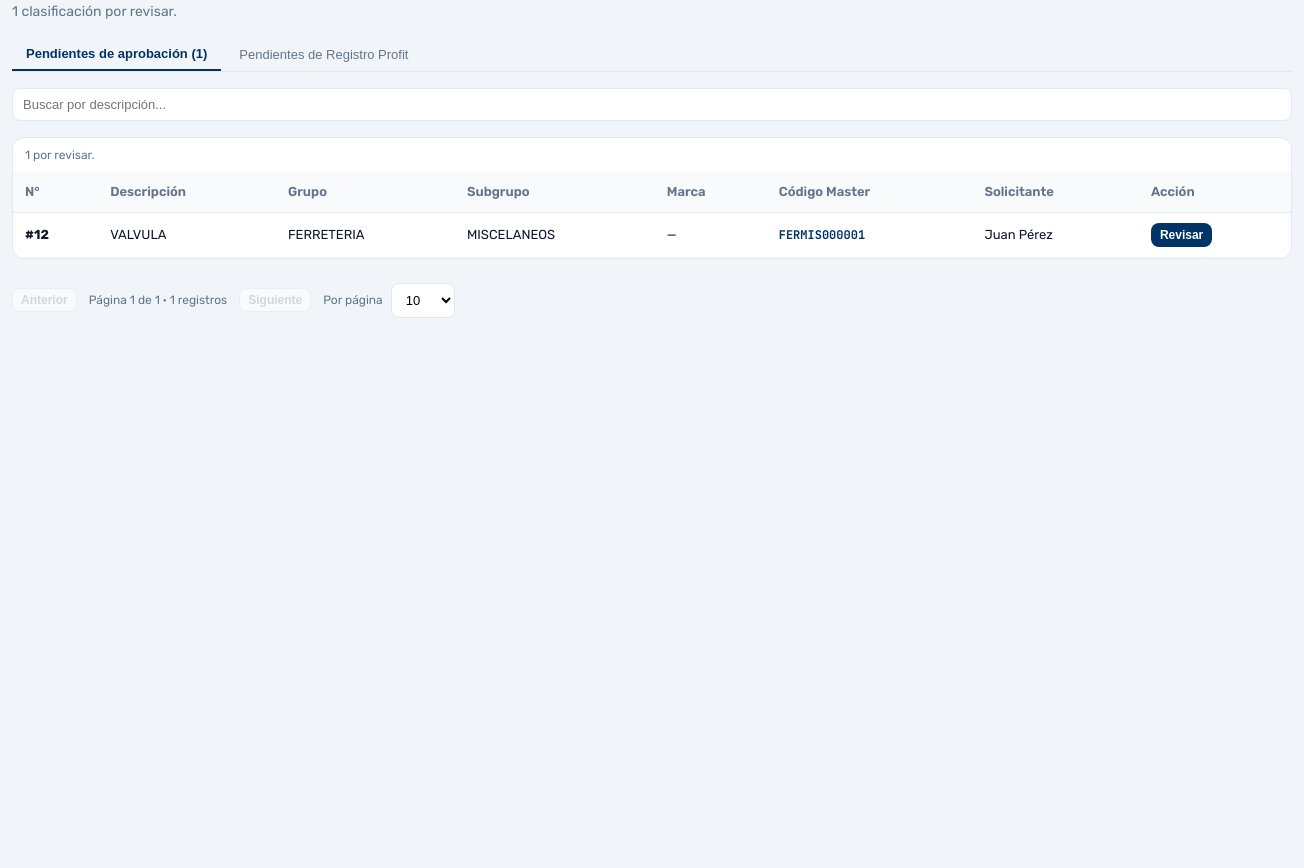
it: ContabilidadList 11C › aprobar pide confirmación y respeta entries
Click the button "Revisar": (1182, 234) top-left (1151, 222), bottom-right (1212, 246)
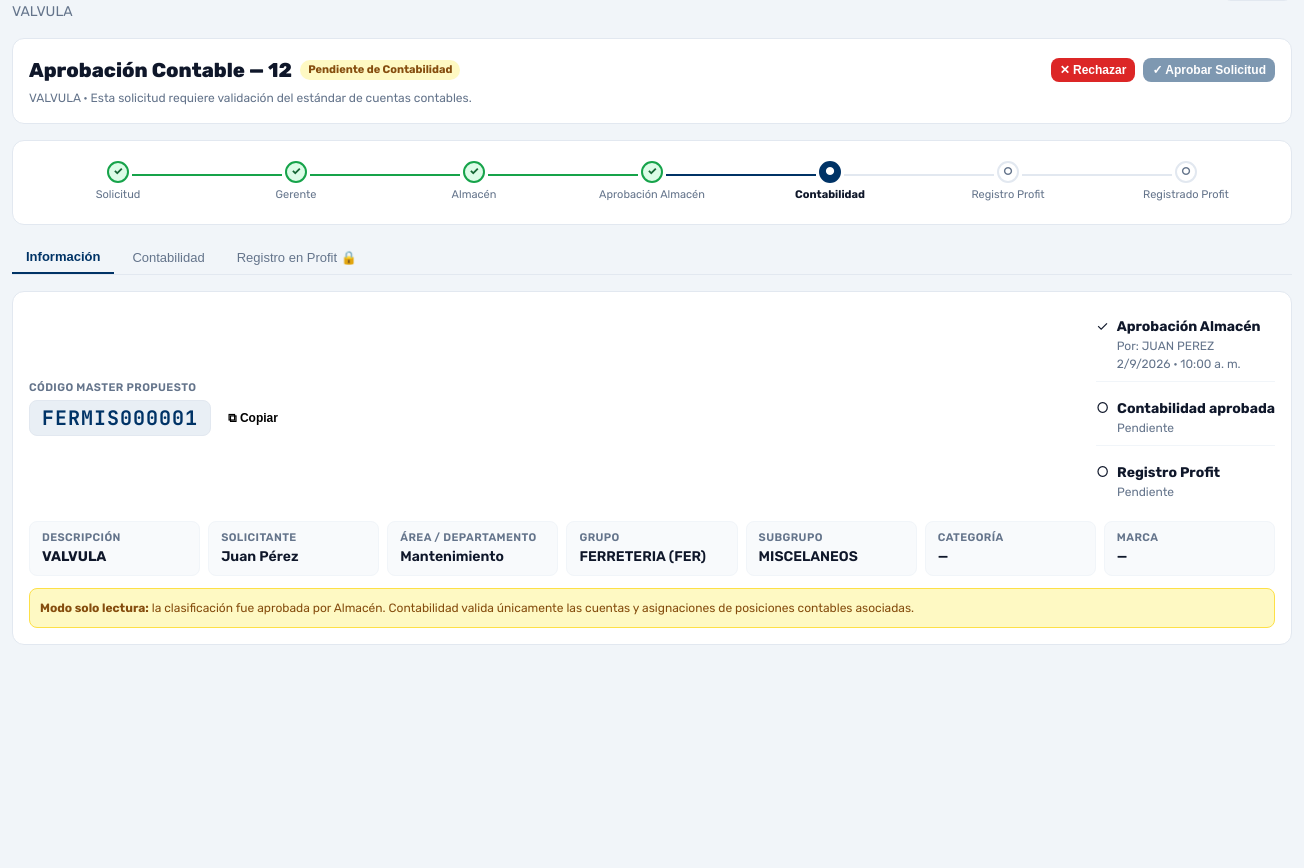
Click the tab "Contabilidad": (169, 257) top-left (118, 240), bottom-right (219, 274)
(page scrolled)
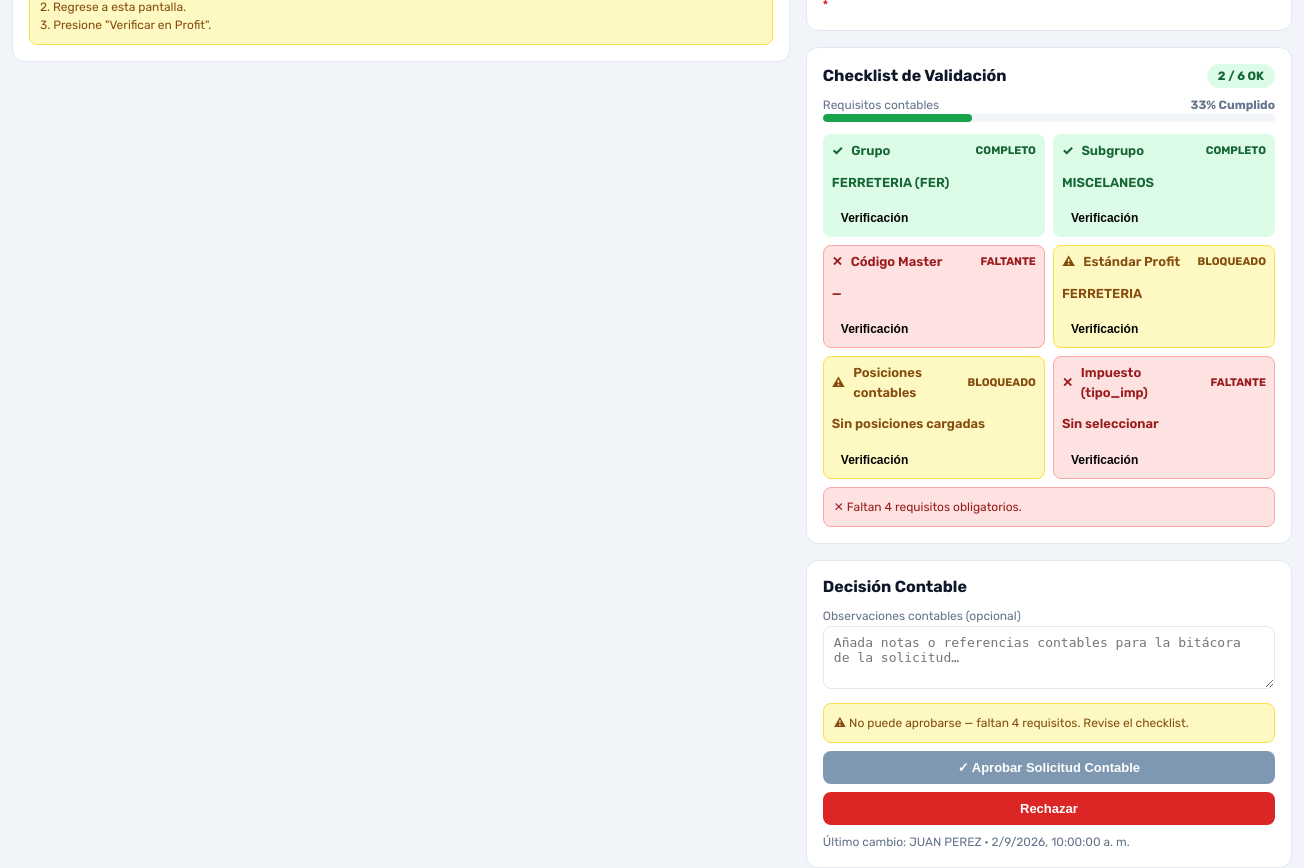
Now the button "✓ Aprobar Solicitud Contable" is disabled, box top-left (823, 751), bottom-right (1275, 784)
